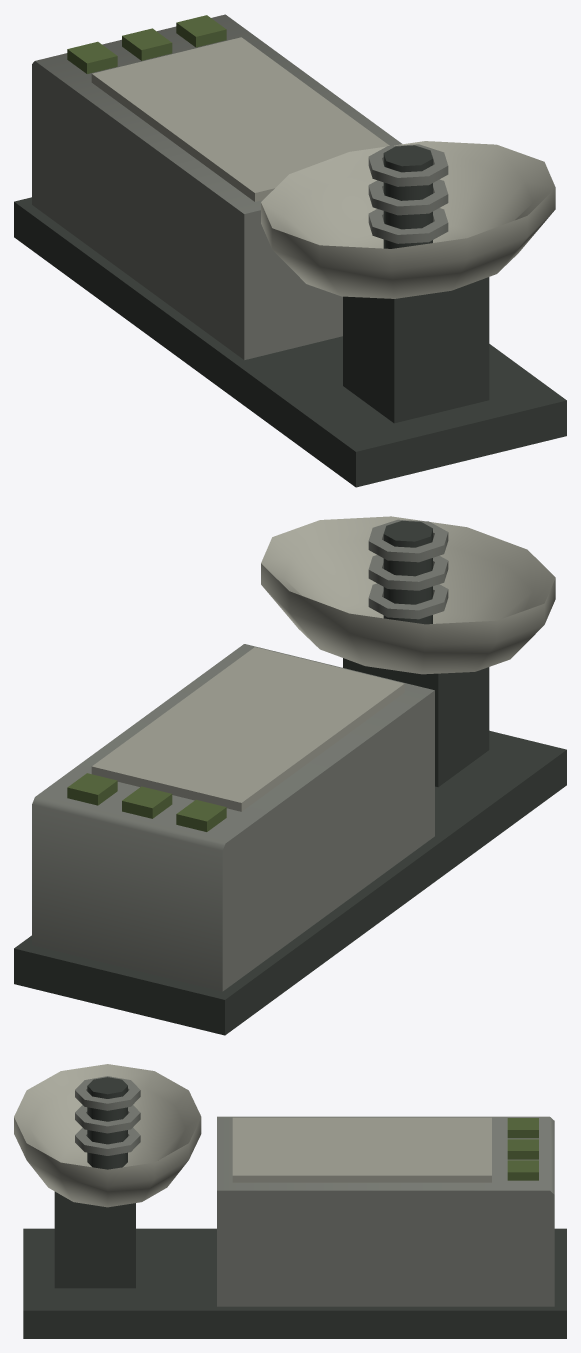
File: electric_inhibitor.obj
The picture shows the model from 3 angles, top to bottom: view 1: azimuth 30°, elevation 25°; view 2: azimuth 150°, elevation 25°; view 3: azimuth 270°, elevation 25°; orthographic projection. The views are drawn at different scales.
Parts seen in each view (by area): view 1: source_component_001, source_component_000, source_component_007, source_component_002, source_component_006, source_component_008, source_component_011, source_component_009, source_component_010, source_component_004, source_component_003, source_component_005; view 2: source_component_001, source_component_000, source_component_007, source_component_002, source_component_006, source_component_008, source_component_011, source_component_010, source_component_009, source_component_005, source_component_003, source_component_004; view 3: source_component_001, source_component_000, source_component_002, source_component_007, source_component_006, source_component_008, source_component_011, source_component_010, source_component_009, source_component_004, source_component_005, source_component_003.
Part boxes in pixels (bbox=[...]): source_component_001: bbox=[32, 14, 402, 359]; source_component_000: bbox=[14, 197, 566, 487]; source_component_007: bbox=[261, 141, 555, 298]; source_component_002: bbox=[91, 37, 389, 201]; source_component_006: bbox=[343, 277, 489, 423]; source_component_008: bbox=[383, 145, 432, 248]; source_component_011: bbox=[368, 144, 448, 186]; source_component_009: bbox=[368, 208, 448, 243]; source_component_010: bbox=[368, 179, 448, 215]; source_component_004: bbox=[122, 28, 172, 60]; source_component_003: bbox=[67, 41, 117, 73]; source_component_005: bbox=[176, 15, 226, 47]; source_component_001: bbox=[32, 644, 434, 991]; source_component_000: bbox=[14, 730, 566, 1035]; source_component_007: bbox=[261, 516, 555, 674]; source_component_002: bbox=[91, 647, 404, 811]; source_component_006: bbox=[343, 658, 489, 787]; source_component_008: bbox=[383, 520, 432, 624]; source_component_011: bbox=[368, 519, 448, 562]; source_component_010: bbox=[368, 555, 448, 590]; source_component_009: bbox=[368, 583, 448, 619]; source_component_005: bbox=[67, 773, 117, 805]; source_component_003: bbox=[176, 799, 226, 831]; source_component_004: bbox=[122, 786, 172, 818]; source_component_001: bbox=[217, 1116, 554, 1306]; source_component_000: bbox=[23, 1228, 566, 1338]; source_component_002: bbox=[232, 1117, 491, 1182]; source_component_007: bbox=[14, 1064, 201, 1207]; source_component_006: bbox=[54, 1191, 135, 1288]; source_component_008: bbox=[87, 1077, 127, 1169]; source_component_011: bbox=[75, 1076, 140, 1110]; source_component_010: bbox=[75, 1105, 140, 1133]; source_component_009: bbox=[75, 1127, 140, 1155]; source_component_004: bbox=[507, 1139, 538, 1159]; source_component_005: bbox=[507, 1160, 538, 1180]; source_component_003: bbox=[507, 1118, 538, 1138].
Bounding box in the file's own units: 0.8 × 0.75 × 1.77.
